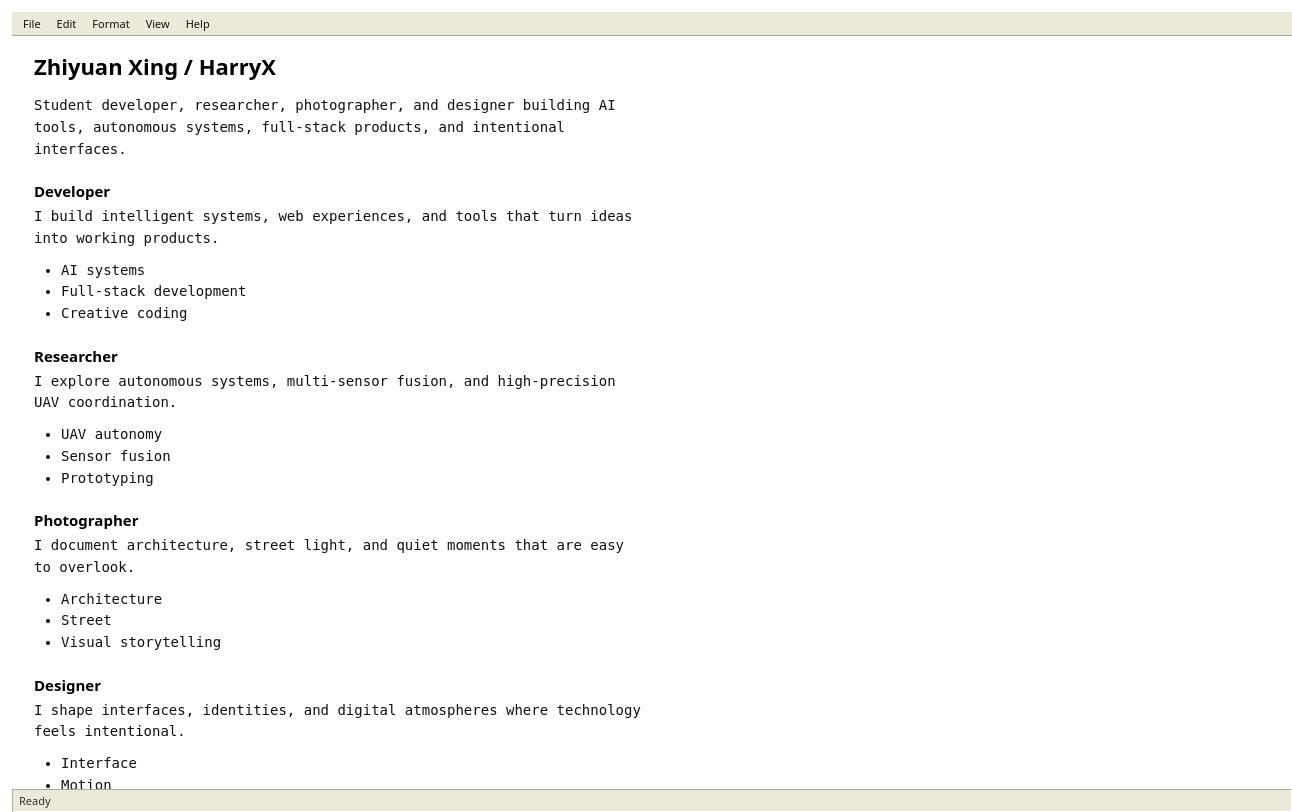
it: AboutNotepad › renders the approved Markdown document with Word Wrap enabled
This screenshot has width=1292, height=812.
Step 1. Click the button "Format" → (111, 24), box top-left (84, 13), bottom-right (138, 34)
(page scrolled)
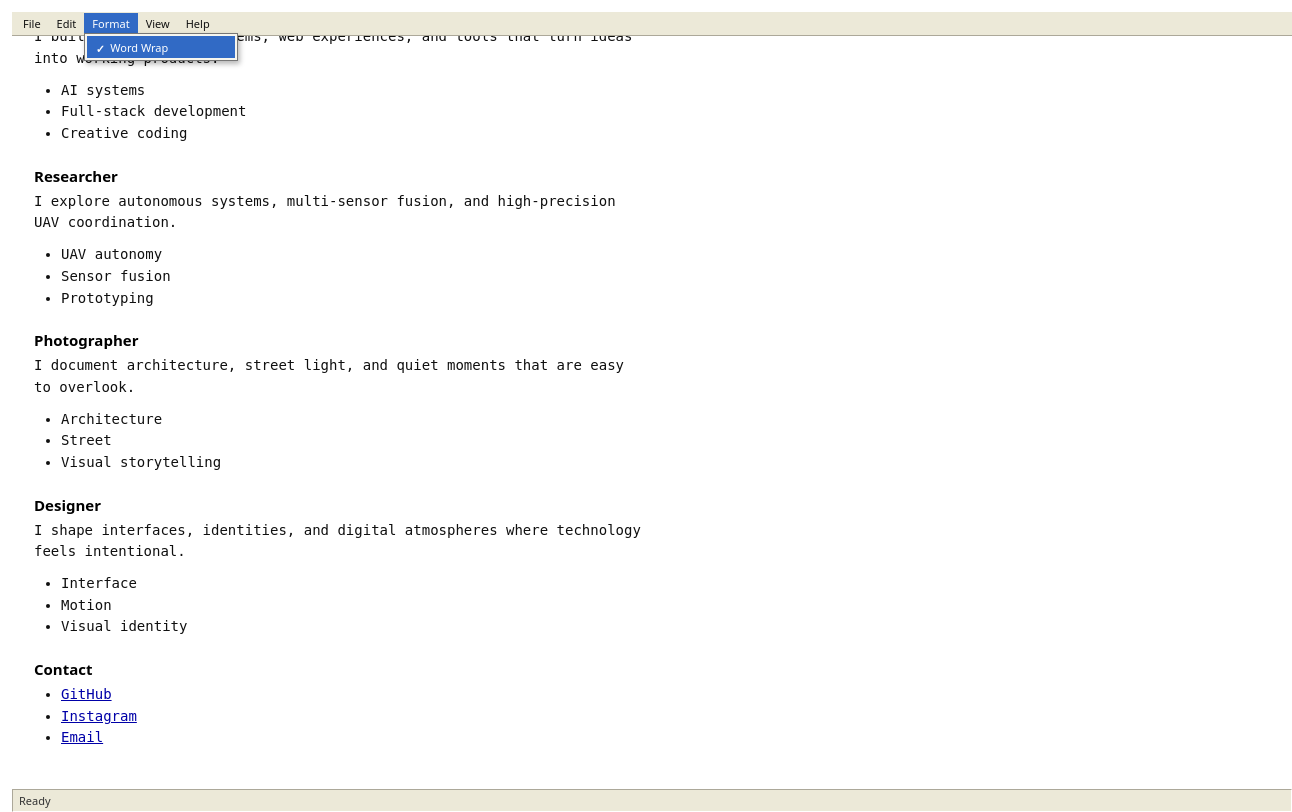
Expected: the number of lists is 5, top-left (61, 82), bottom-right (246, 141); top-left (61, 246), bottom-right (171, 306); top-left (61, 411), bottom-right (221, 470); top-left (61, 575), bottom-right (187, 634); top-left (61, 686), bottom-right (137, 746)
